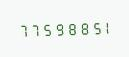eight: (65, 19, 76, 36), (77, 19, 88, 36)
five: (41, 20, 52, 37), (89, 19, 100, 35)
nine: (53, 20, 64, 37)
one: (101, 18, 112, 35)
seven: (17, 21, 28, 38), (29, 21, 40, 37)
